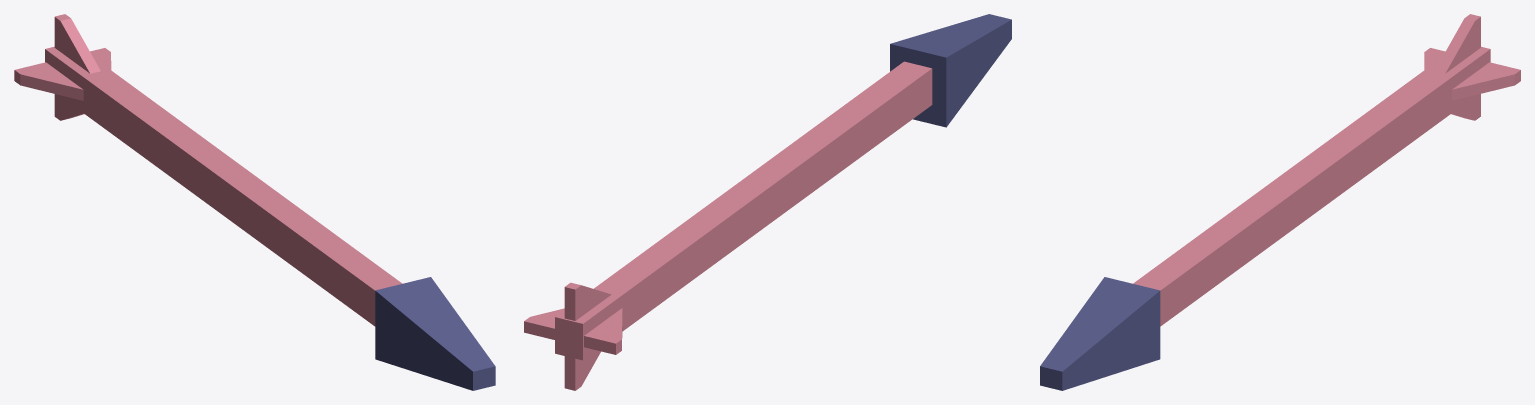
Rendered from arrow.glb.
3 renders of one model, left to right at view 1: azimuth 30°, elevation 25°; view 2: azimuth 150°, elevation 25°; view 3: azimuth 330°, elevation 25°, orthographic.
Visible parts, largest first — view 1: Cube, Cube.005, Cube.004, Cube.002, Cube.006; view 2: Cube, Cube.005, Cube.004, Cube.002, Cube.006, Cube.003; view 3: Cube, Cube.005, Cube.003, Cube.002, Cube.006.
Boxes of the visible parts, box(x1,y1,x2,y2) form: Cube: box(45, 46, 402, 326); Cube.005: box(375, 277, 495, 390); Cube.004: box(14, 62, 83, 100); Cube.002: box(54, 14, 100, 73); Cube.006: box(54, 94, 83, 120); Cube: box(555, 61, 932, 360); Cube.005: box(890, 14, 1011, 127); Cube.004: box(584, 308, 622, 354); Cube.002: box(564, 282, 611, 320); Cube.006: box(564, 350, 600, 390); Cube.003: box(524, 308, 564, 339); Cube: box(1133, 46, 1490, 326); Cube.005: box(1040, 277, 1160, 390); Cube.003: box(1452, 62, 1520, 100); Cube.002: box(1435, 14, 1480, 73); Cube.006: box(1451, 94, 1480, 120).
Size of the model in its own units: 0.8096 by 0.8524 by 6.58.
1 material, 1 textured.
